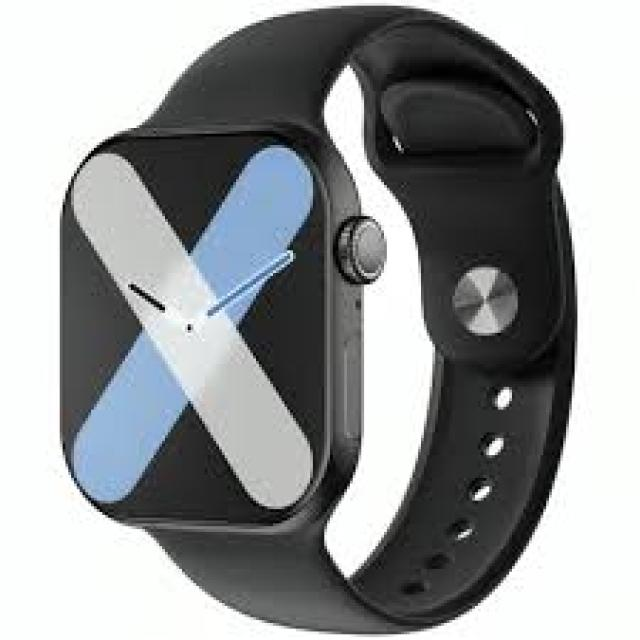objects: (63, 9, 575, 635)
